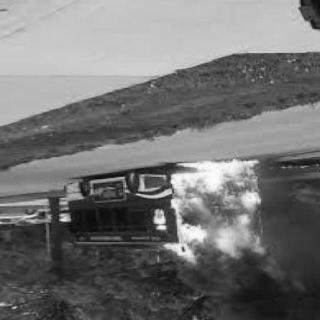Smoke: (268, 204, 310, 264)
